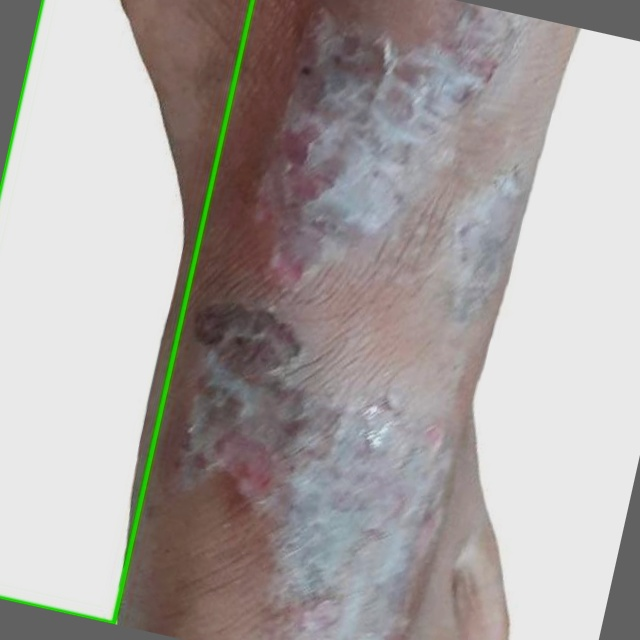Contact Dermatitis: (0, 0, 252, 623)
